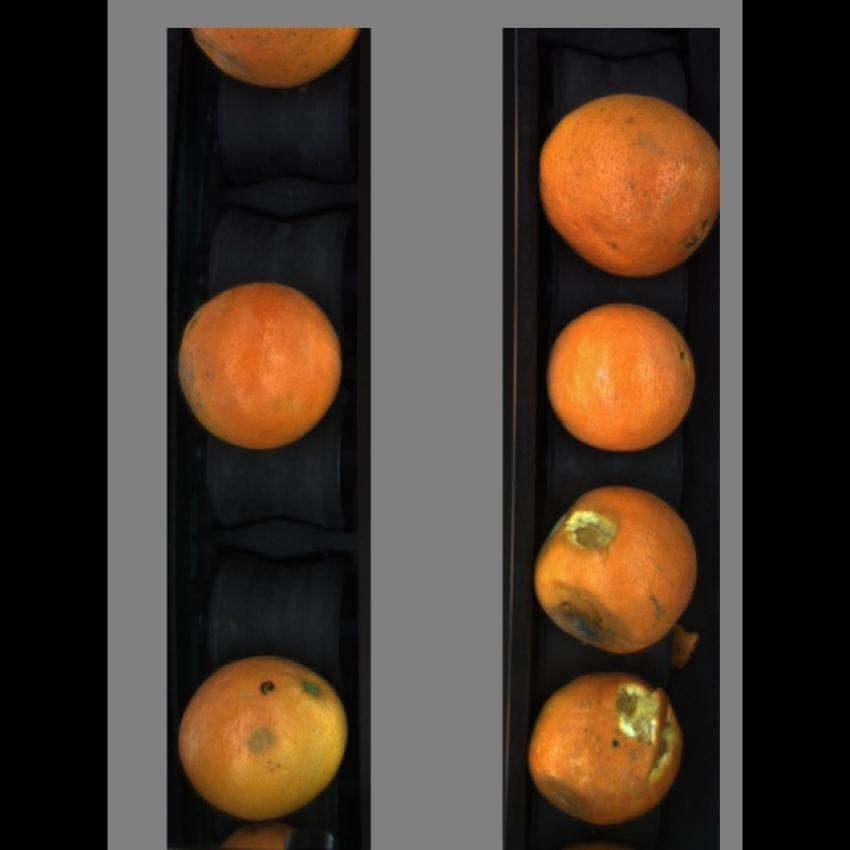Buen estado: (542, 298, 703, 454)
Mal estado: (536, 86, 721, 280), (174, 275, 352, 455), (528, 486, 707, 656), (179, 653, 352, 821), (526, 673, 687, 818), (187, 30, 361, 92)
